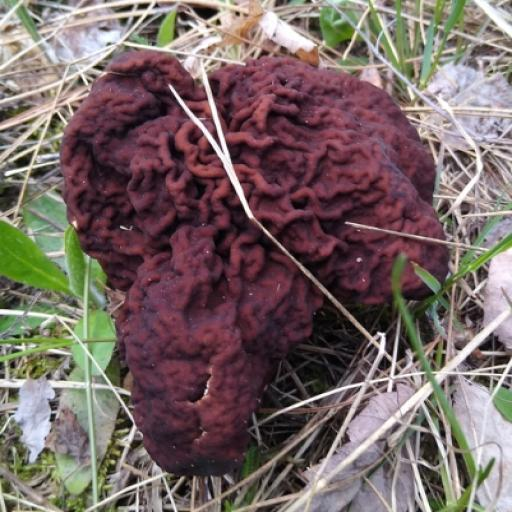mushroom: (13, 18, 371, 497)
